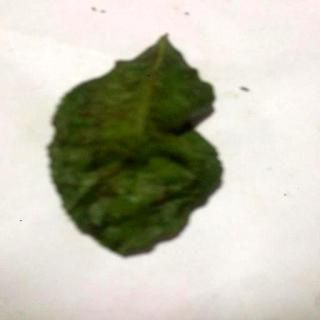Red Leaf Spot: (51, 36, 223, 258)
